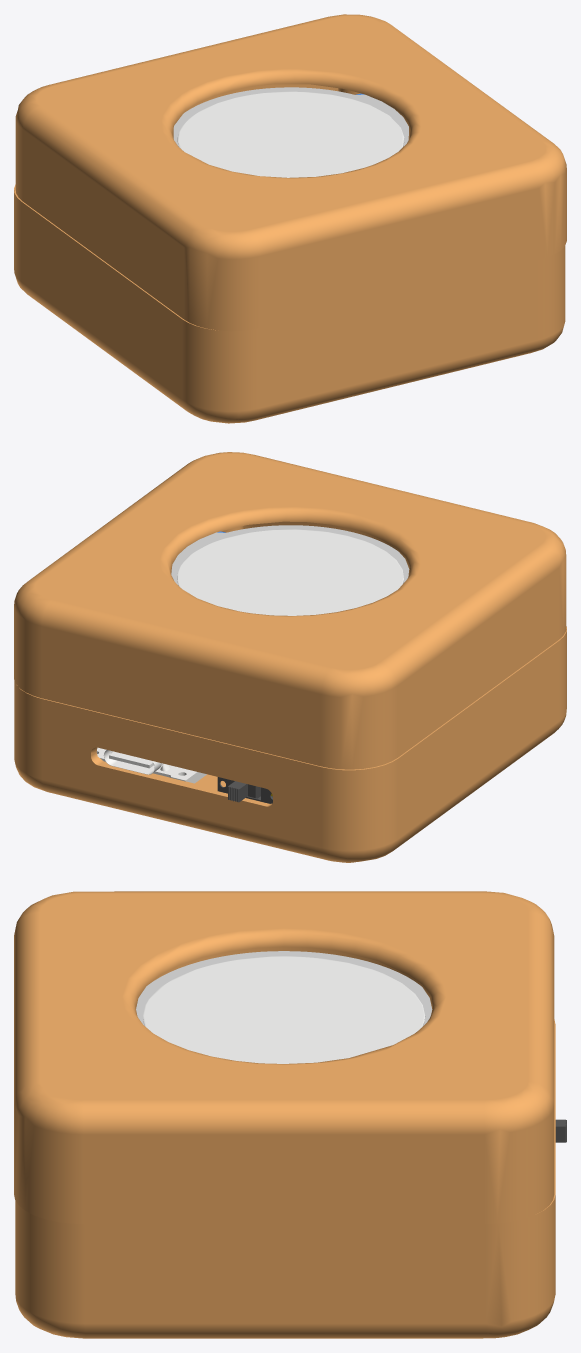
The model's file is cap.glb.
The picture shows the model from 3 angles, top to bottom: view 1: azimuth 30°, elevation 25°; view 2: azimuth 150°, elevation 25°; view 3: azimuth 270°, elevation 25°; orthographic projection. The views are drawn at different scales.
Visible parts, largest first — view 1: top_plate1 1, bottom_plate1 1, Teyleten_Robot_128_Inch_GC9A01_240x240_v1_v11 5, LCd; view 2: top_plate1 1, bottom_plate1 1, Teyleten_Robot_128_Inch_GC9A01_240x240_v1_v11 5, LCd, On-Off_Switch_-_3D_v41 1, TP4056_Charging_Module_Type_C_v11 1, TP4056_Charging_Module_Type_C_v11 4; view 3: top_plate1 1, bottom_plate1 1, Teyleten_Robot_128_Inch_GC9A01_240x240_v1_v11 5, LCd.
Part boxes in pixels (x1,y1,x2,y2): top_plate1 1: [15, 14, 566, 331]; bottom_plate1 1: [14, 184, 565, 423]; Teyleten_Robot_128_Inch_GC9A01_240x240_v1_v11 5: [178, 91, 404, 177]; LCd: [173, 87, 408, 147]; top_plate1 1: [14, 452, 566, 769]; bottom_plate1 1: [14, 627, 566, 862]; Teyleten_Robot_128_Inch_GC9A01_240x240_v1_v11 5: [177, 529, 403, 615]; LCd: [171, 525, 409, 585]; On-Off_Switch_-_3D_v41 1: [217, 777, 272, 803]; TP4056_Charging_Module_Type_C_v11 1: [103, 750, 163, 774]; TP4056_Charging_Module_Type_C_v11 4: [96, 747, 206, 783]; top_plate1 1: [14, 891, 554, 1224]; bottom_plate1 1: [15, 1019, 555, 1338]; Teyleten_Robot_128_Inch_GC9A01_240x240_v1_v11 5: [143, 956, 424, 1063]; LCd: [136, 951, 432, 1026].
Bounding box in the file's own units: 0.0622 × 0.03 × 0.0635.
